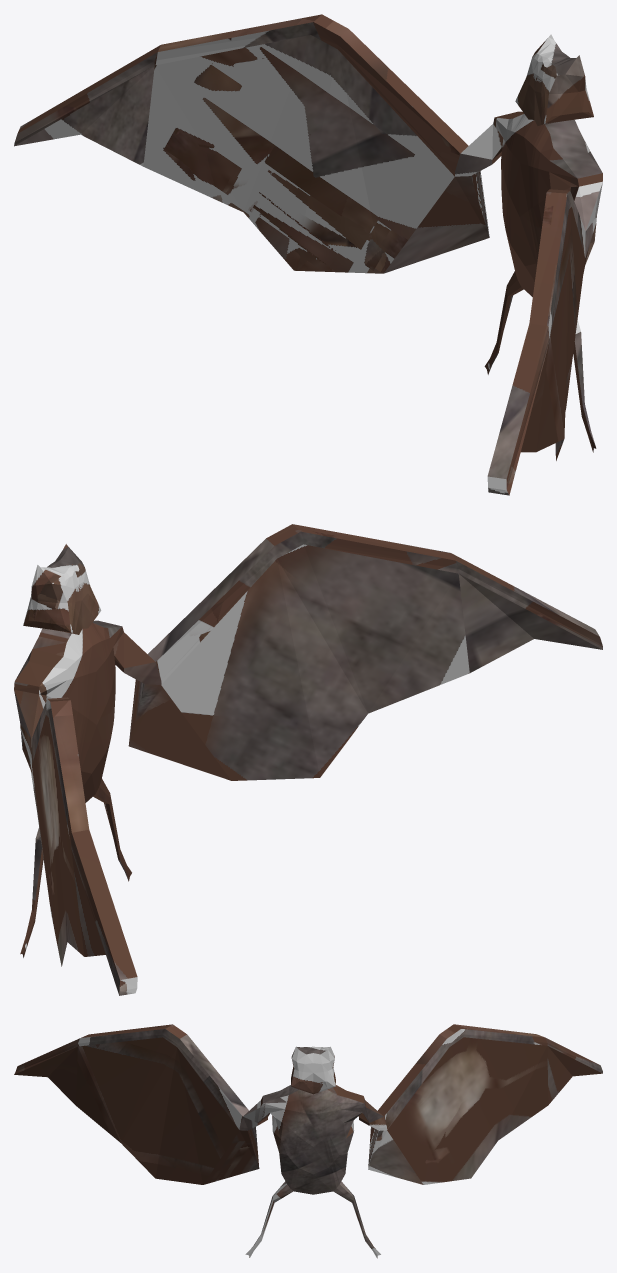
Rendered from Enemigo110.obj.
3 renders of one model, top to bottom at view 1: azimuth 30°, elevation 25°; view 2: azimuth 150°, elevation 25°; view 3: azimuth 270°, elevation 25°, orthographic. The views are drawn at different scales.
Visible parts, largest first — view 1: Plano; view 2: Plano; view 3: Plano.
Boxes of the visible parts, bbox=[...] form: Plano: bbox=[14, 14, 602, 495]; Plano: bbox=[14, 524, 602, 995]; Plano: bbox=[14, 1024, 602, 1258].
Bounding box in the file's own units: 0.7238 × 0.7578 × 1.84.
1 material, 1 textured.
